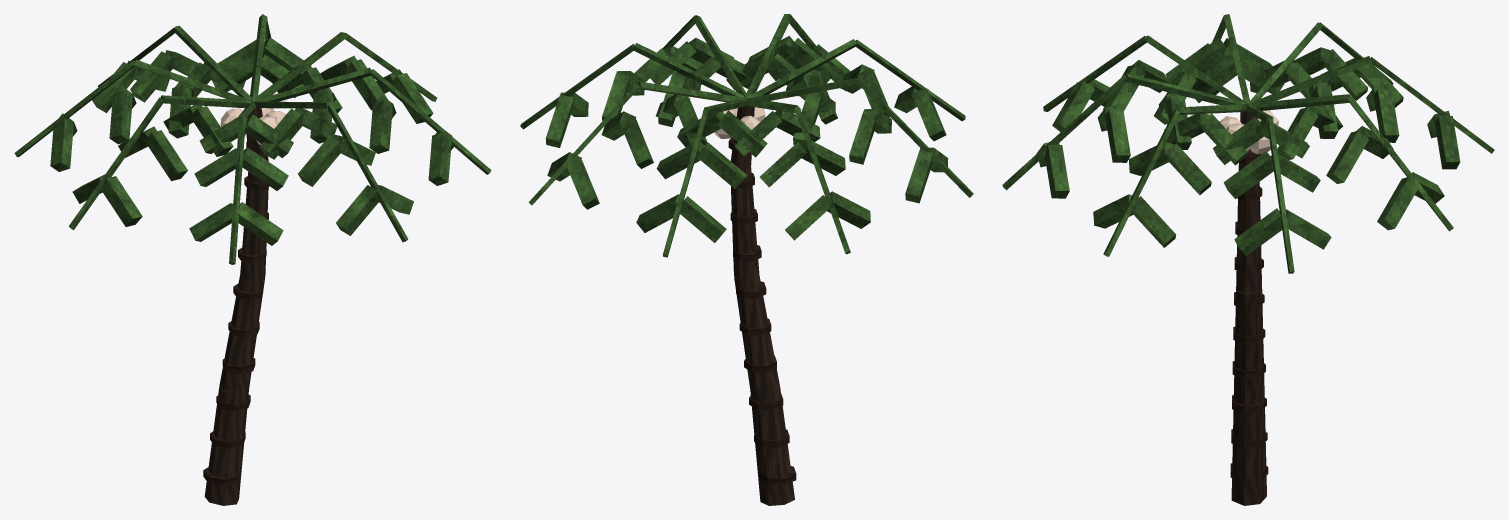
File: palm_tree.glb
3 views of the same model, side by side, from view 1: azimuth 30°, elevation 25°; view 2: azimuth 150°, elevation 25°; view 3: azimuth 270°, elevation 25° (orthographic). The views are drawn at different scales.
Parts seen in each view (by area): view 1: palm_tree; view 2: palm_tree; view 3: palm_tree.
Part boxes in pixels (x1,y1,x2,y2): palm_tree: [14, 14, 491, 505]; palm_tree: [520, 14, 973, 505]; palm_tree: [1002, 14, 1494, 505].
Size of what is drawn, in the model's own units: 3.98 by 4 by 3.98.
4 materials, 3 textured.
